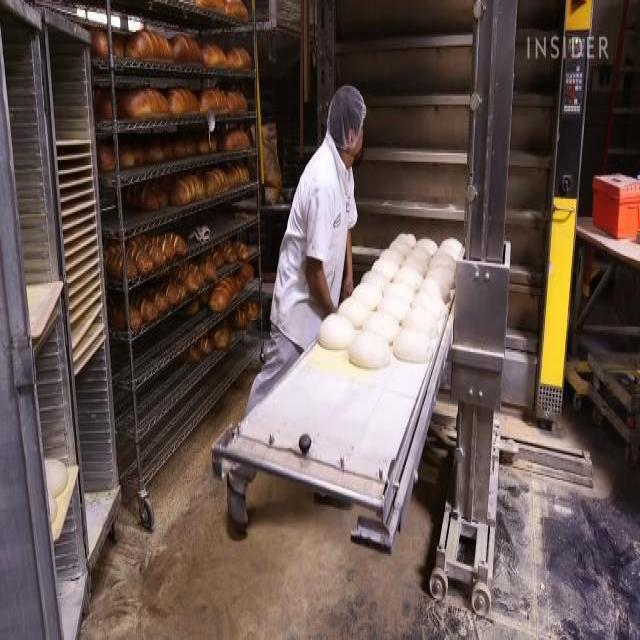bare_hand: (339, 263, 361, 296)
